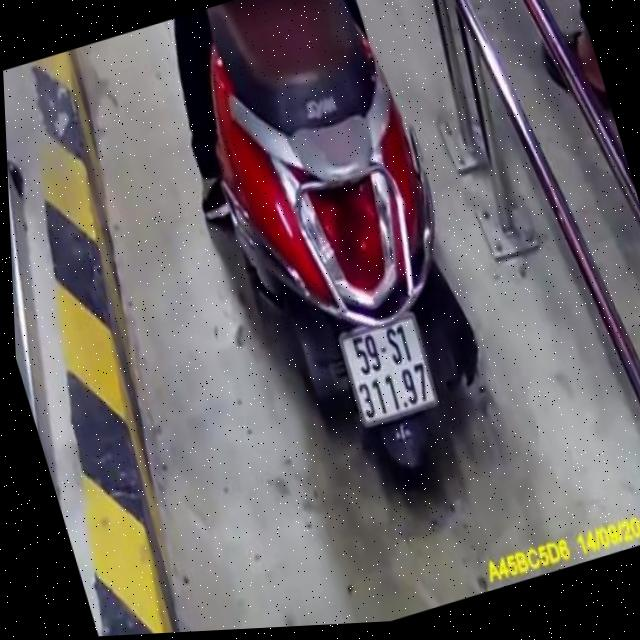motorcycle: (164, 0, 517, 515)
plate: (330, 306, 450, 434)
